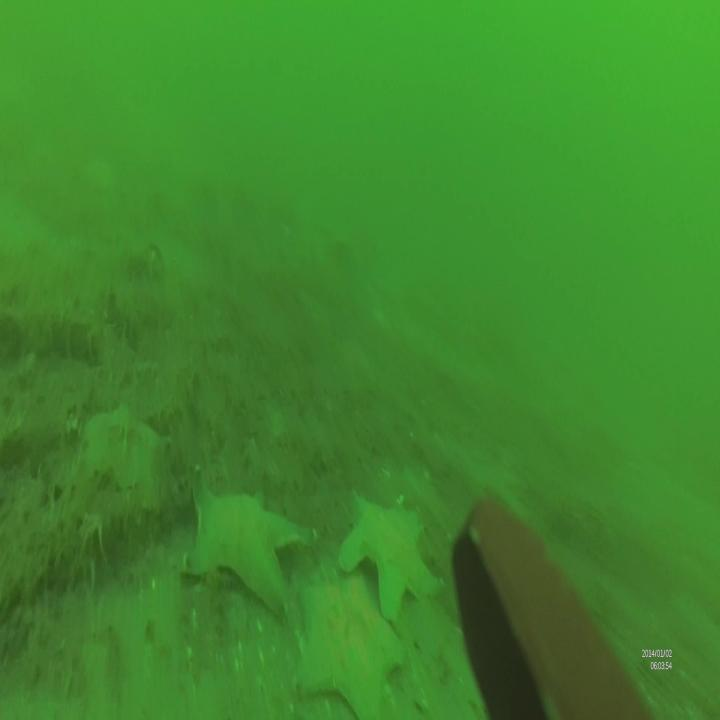starfish: (183, 464, 314, 620), (290, 569, 410, 719), (342, 493, 441, 623), (86, 404, 172, 511)
